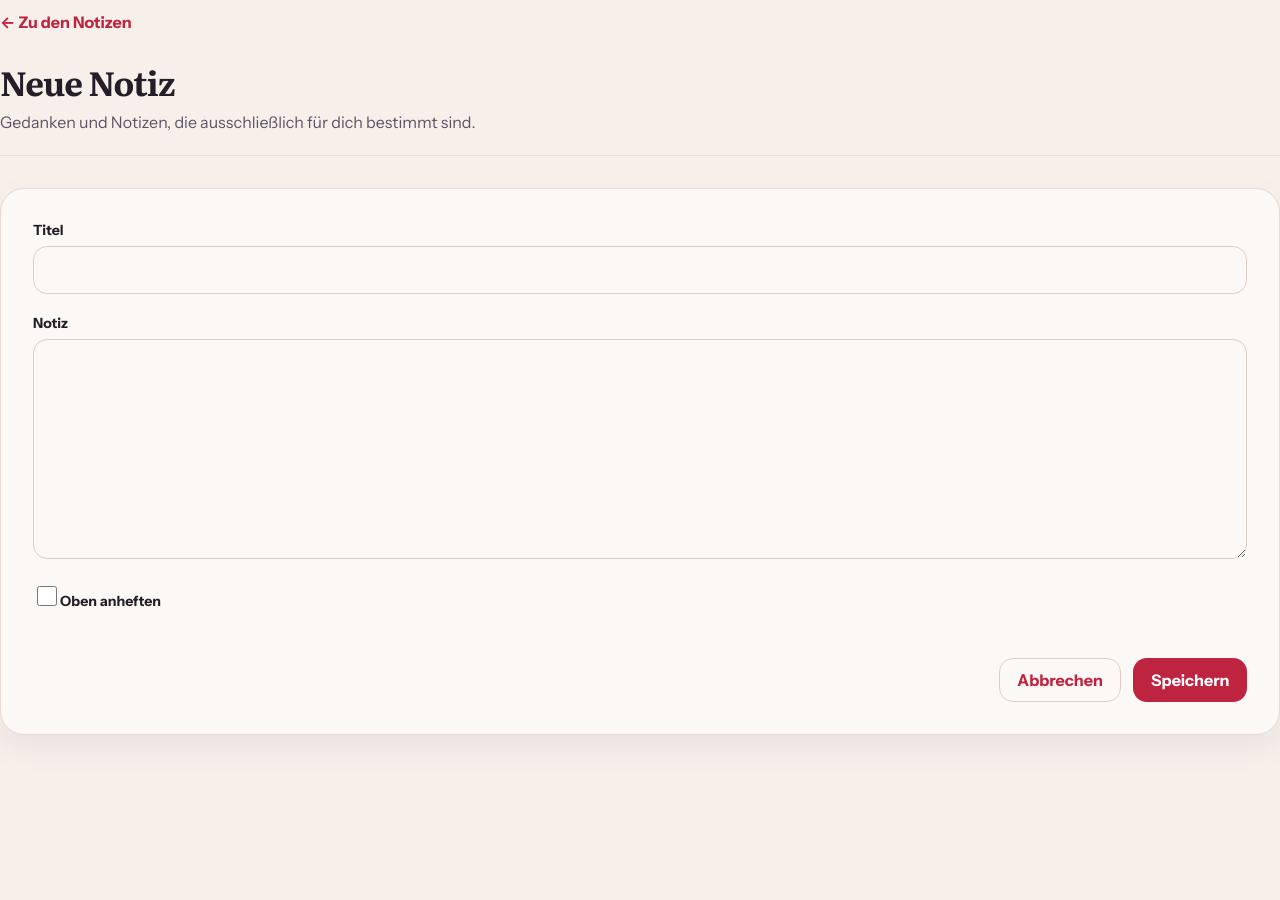
Test: private create title validation › keeps an unknown server failure in the generic problem state
In the field labelled "Titel": coordinates (640, 270) [33,246,1247,294], type "Preserved draft"
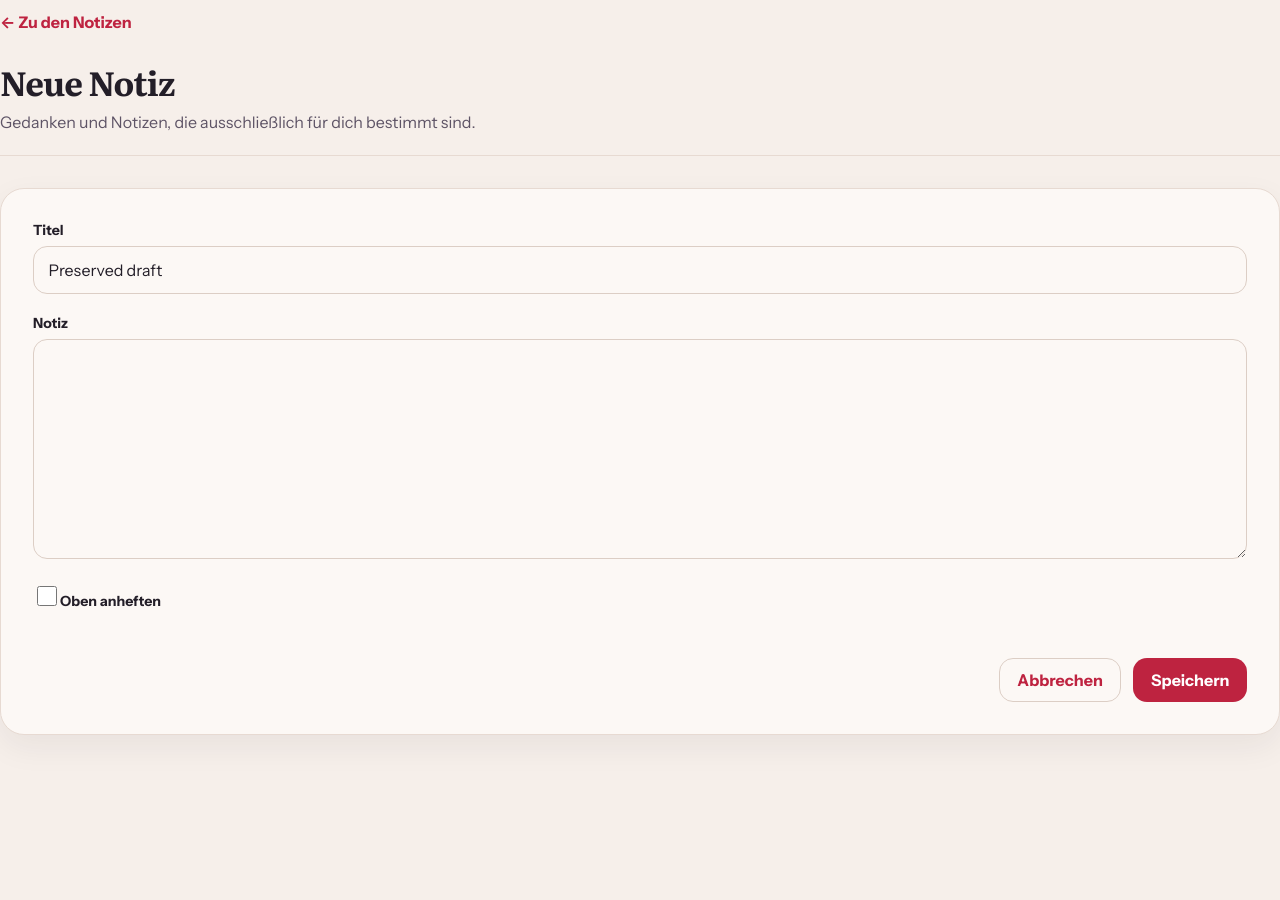
Submit the form, box [33,221,1247,702]
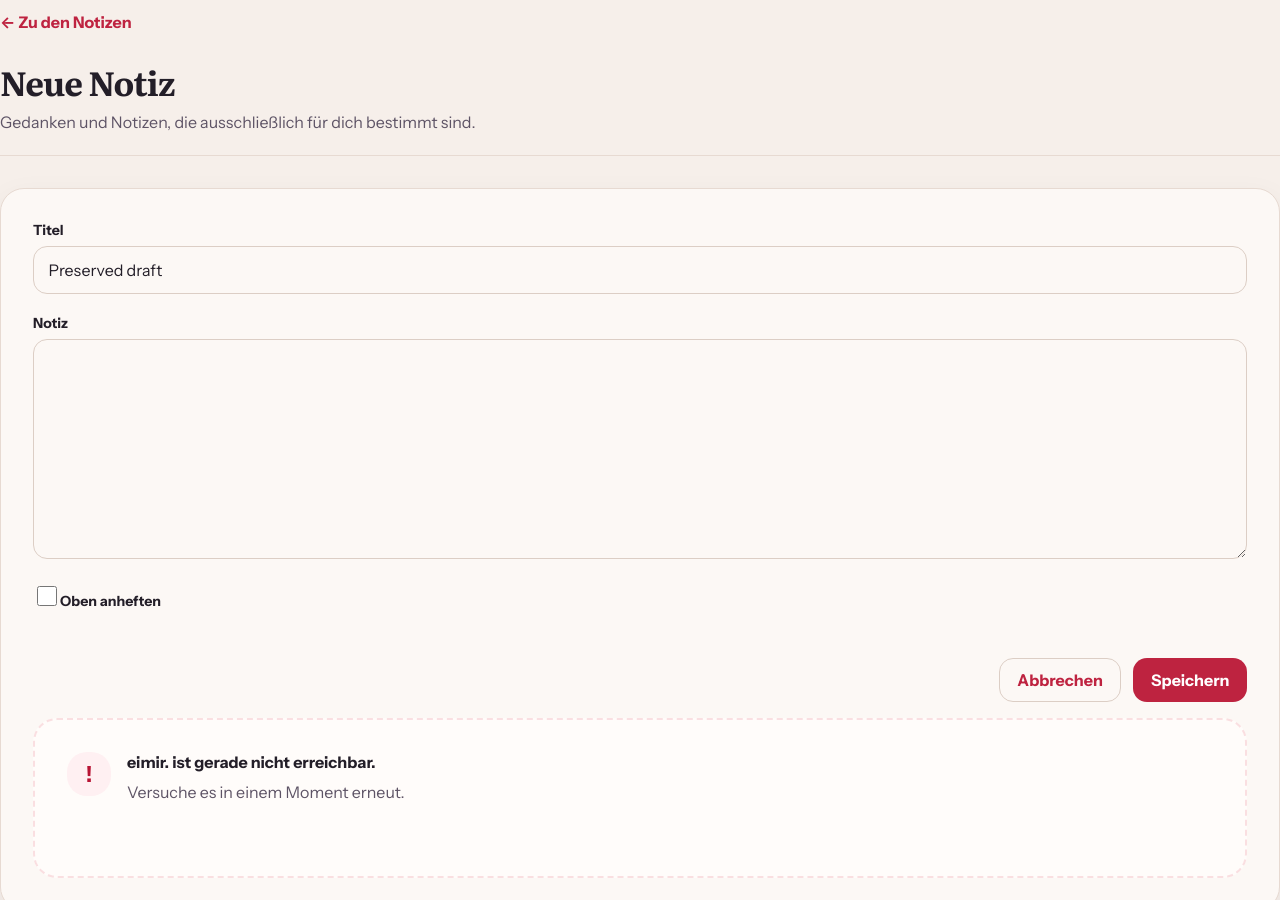
Check: the message "! eimir. ist gerade nicht erreichbar. Versuche es in einem Moment erneut." is shown, box [33,718,1247,878]
